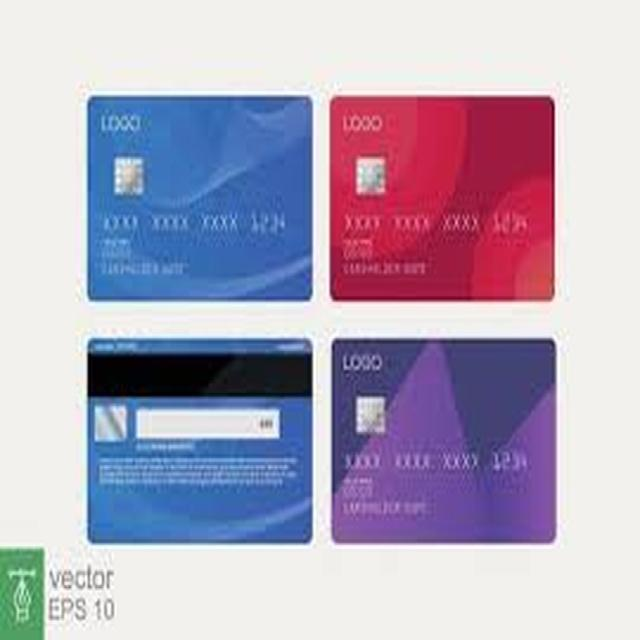card: (31, 304, 324, 556), (334, 83, 571, 330), (320, 339, 594, 552), (67, 89, 322, 317), (53, 326, 184, 449), (207, 480, 330, 584)
